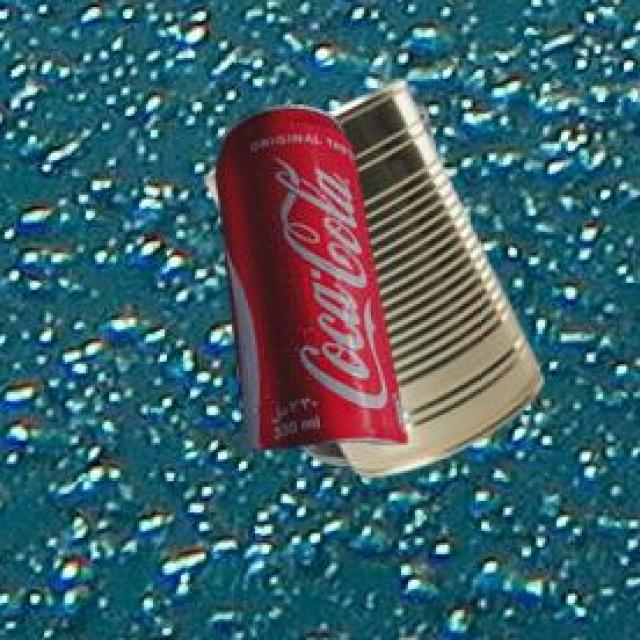logam: (203, 78, 539, 474), (212, 101, 402, 446), (300, 294, 393, 463)
